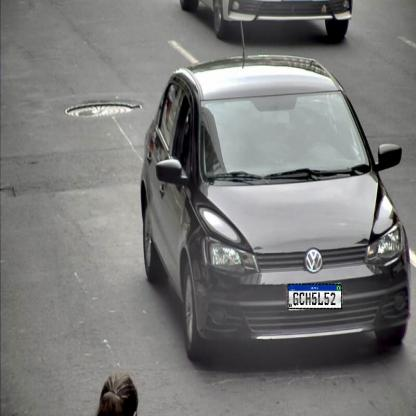PlacaM: (288, 284, 342, 309)
